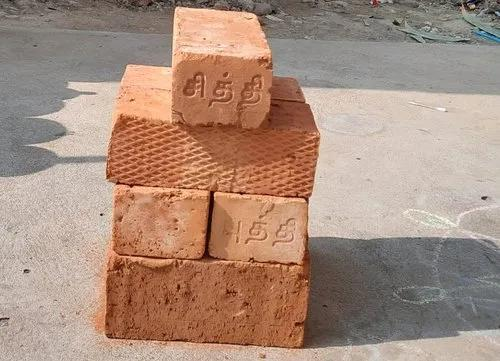brick: (107, 117, 320, 198), (106, 264, 307, 343), (174, 53, 271, 128), (114, 188, 208, 258), (216, 195, 307, 264)
